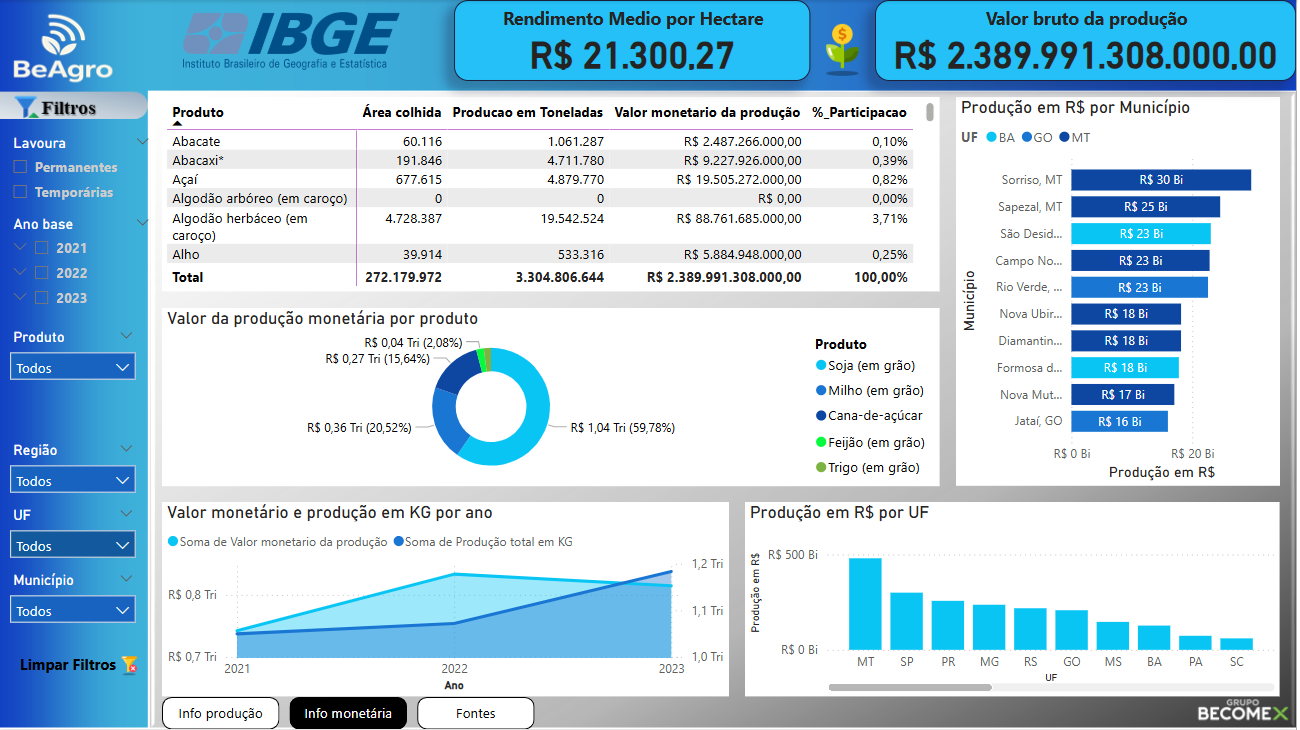

Layout of this report page (visuals, bound fields, positions):
{"tool":"powerbi","page":{"name":"Info monetária","canvas":[1280,720],"ordinal":1},"visuals":[{"type":"columnChart","title":"Produção em R$ por UF ","fields":{"Category":["Sheet1.UF"],"Y":["Sum(Sheet1.Valor monetario da produção)"]},"box":[728,495.7,536.5,192.4],"z":0},{"type":"pageNavigator","box":[160,688,368,32],"z":1000},{"type":"barChart","title":"Produção em R$ por Município","fields":{"Category":["Sheet1.Municipios_UF"],"Y":["Sum(Sheet1.Valor monetario da produção)"],"Series":["Sheet1.UF"]},"box":[944,96,320,384],"z":2000},{"type":"actionButton","box":[160,688,112,32],"z":3000},{"type":"donutChart","title":"Valor da produção monetária por produto","fields":{"Category":["Sheet1.Produto"],"Y":["Sum(Sheet1.Valor monetario da produção)"]},"box":[160,304,768,176],"z":4000},{"type":"actionButton","box":[416,688,112,32],"z":5000},{"type":"areaChart","title":"Valor monetário e produção em KG por ano   ","fields":{"Category":["Sheet1.Ano.1.Variation.Hierarquia de datas.Ano"],"Y":["Sum(Sheet1.Valor monetario da produção)"],"Y2":["Sum(Sheet1.Produção total em KG)"]},"box":[160,496,560,192],"z":6000},{"type":"card","title":"Valor bruto da produção","fields":{"Values":["Sum(Sheet1.Valor monetario da produção)"]},"box":[864,0,416,80],"z":7000},{"type":"image","box":[800,0,64,96],"z":8000},{"type":"slicer","fields":{"Values":["RegioesBrasil.Regiao"]},"box":[0,432,144,64],"z":9000},{"type":"slicer","fields":{"Values":["Sheet1.UF"]},"box":[0,496,144,64],"z":10000},{"type":"slicer","fields":{"Values":["Sheet1.Nome_Município"]},"box":[0,560,144,64],"z":11000},{"type":"slicer","fields":{"Values":["Sheet1.Lavoura"]},"box":[0,128,160,96],"z":12000},{"type":"slicer","fields":{"Values":["Sheet1.Ano.1","Sheet1.Valor monetario da produção"]},"box":[0,208,160,128],"z":13000},{"type":"slicer","fields":{"Values":["Sheet1.Produto"]},"box":[0,320,144,64],"z":14000},{"type":"actionButton","box":[16,640,112,32],"z":15000},{"type":"image","box":[112,640,32,32],"z":16000},{"type":"pivotTable","fields":{"Values":["Sum(Sheet1.Área colhida)","Sum(Sheet1.Producao_total_toneladas)","Sum(Sheet1.Valor monetario da produção)","Sheet1.%_Participacao"],"Rows":["Sheet1.Produto"]},"box":[160,96,768,192],"z":17000},{"type":"image","box":[176,0,224,80],"z":18000},{"type":"card","title":"Rendimento Medio por Hectare","fields":{"Values":["Avg(Sheet1.Produção_monetaria_por_hectare)"]},"box":[448,0,352,80],"z":19000}]}

Visuals, with their boxes in screenshot pixels (x1, y1, x2, y2), scaled from the page's 1280x720 canvas onto the 1300x730 screenshot:
"Produção em R$ por UF " columnChart: [x1=739, y1=503, x2=1284, y2=698]
pageNavigator: [x1=162, y1=698, x2=536, y2=729]
"Produção em R$ por Município" barChart: [x1=959, y1=97, x2=1284, y2=487]
actionButton: [x1=162, y1=698, x2=276, y2=729]
"Valor da produção monetária por produto" donutChart: [x1=162, y1=308, x2=942, y2=487]
actionButton: [x1=422, y1=698, x2=536, y2=729]
"Valor monetário e produção em KG por ano   " areaChart: [x1=162, y1=503, x2=731, y2=698]
"Valor bruto da produção" card: [x1=878, y1=0, x2=1299, y2=81]
image: [x1=812, y1=0, x2=878, y2=97]
slicer - RegioesBrasil.Regiao: [x1=0, y1=438, x2=146, y2=503]
slicer - Sheet1.UF: [x1=0, y1=503, x2=146, y2=568]
slicer - Sheet1.Nome_Município: [x1=0, y1=568, x2=146, y2=633]
slicer - Sheet1.Lavoura: [x1=0, y1=130, x2=162, y2=227]
slicer - Sheet1.Ano.1 x Sheet1.Valor monetario da produção: [x1=0, y1=211, x2=162, y2=341]
slicer - Sheet1.Produto: [x1=0, y1=324, x2=146, y2=389]
actionButton: [x1=16, y1=649, x2=130, y2=681]
image: [x1=114, y1=649, x2=146, y2=681]
pivotTable - Sum(Sheet1.Área colhida) x Sum(Sheet1.Producao_total_toneladas): [x1=162, y1=97, x2=942, y2=292]
image: [x1=179, y1=0, x2=406, y2=81]
"Rendimento Medio por Hectare" card: [x1=455, y1=0, x2=812, y2=81]
